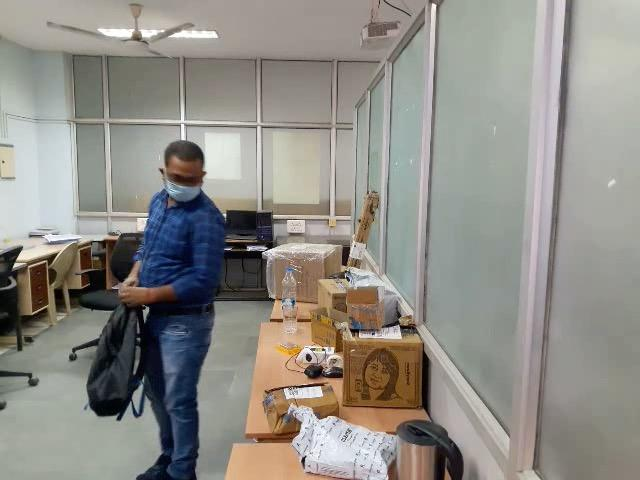shoplifting: (48, 268, 210, 479)
